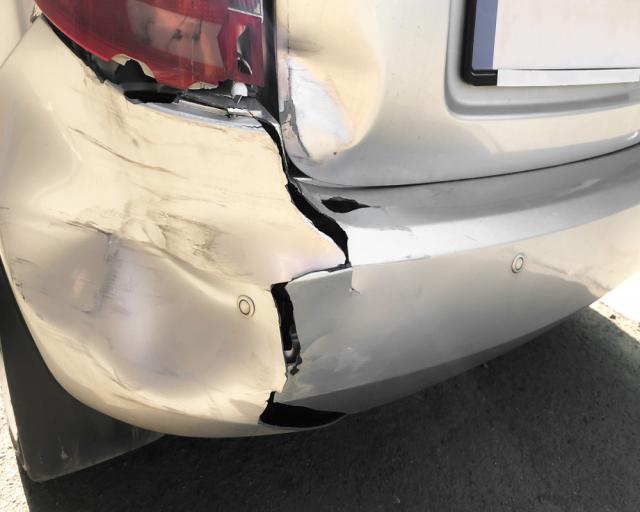crack: (259, 125, 362, 430), (318, 195, 369, 213)
dent: (28, 79, 346, 423), (275, 5, 384, 157)
lamp broken: (36, 0, 276, 125)
